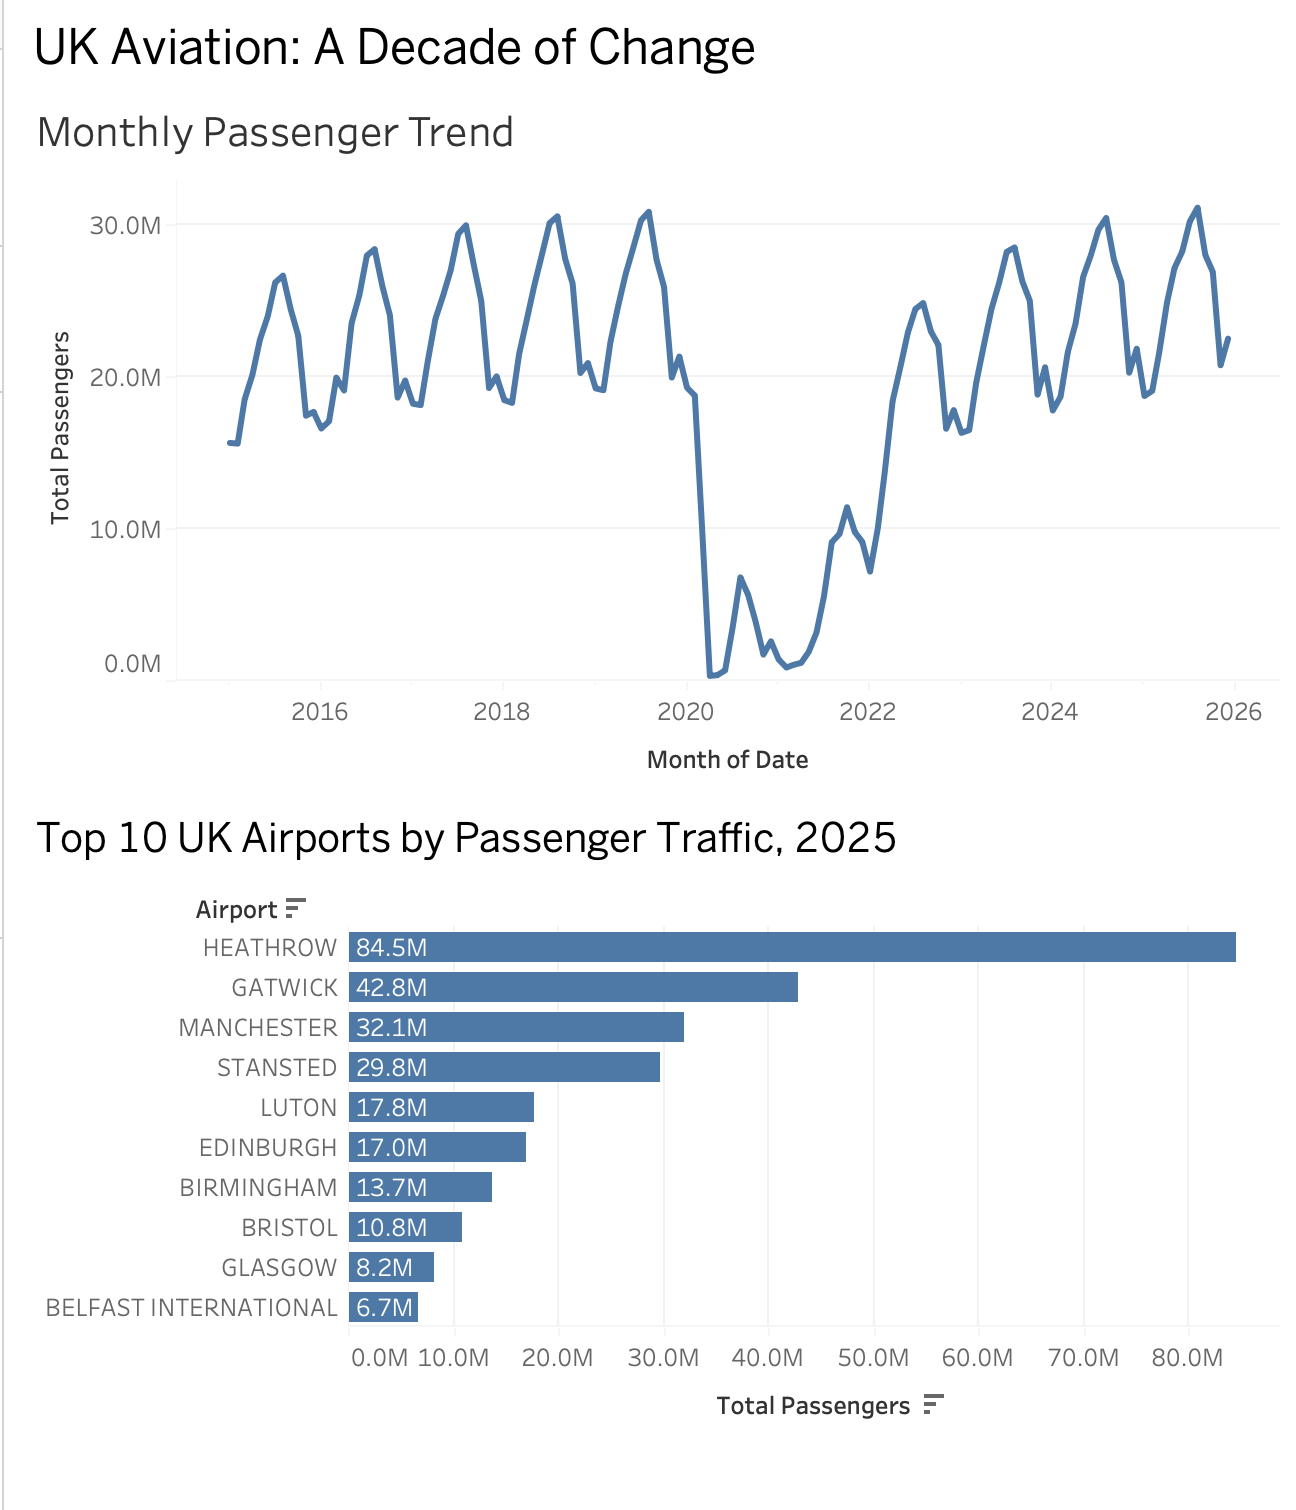

This screenshot's page, from the dashboard's own definition file:
{"tool":"tableau","page":{"name":"UK Aviation Overview","canvas":[650,860],"ordinal":0},"visuals":[{"type":"title","box":[8,9,634,43.8]},{"type":"worksheet","title":"Monthly Passenger Trend","mark":"Automatic","rows":["total_passengers"],"cols":["date"],"box":[8,52.8,634,399.1]},{"type":"worksheet","title":"Top 10 Airports 2025","mark":"Automatic","rows":["airport"],"cols":["total_passengers"],"box":[8,451.9,634,399.1]}]}

Visuals, with their boxes on the page's 650x860 design canvas (x1, y1, x2, y2). These are canvas units, not pixel positions in the 1296x1510 screenshot, which may show the page scaled, cropped or inside an application window:
title: <bbox>8, 9, 642, 53</bbox>
"Monthly Passenger Trend" worksheet: <bbox>8, 53, 642, 452</bbox>
"Top 10 Airports 2025" worksheet: <bbox>8, 452, 642, 851</bbox>
